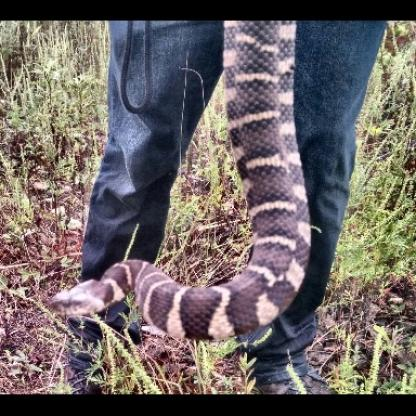Snake: (220, 23, 301, 320)
